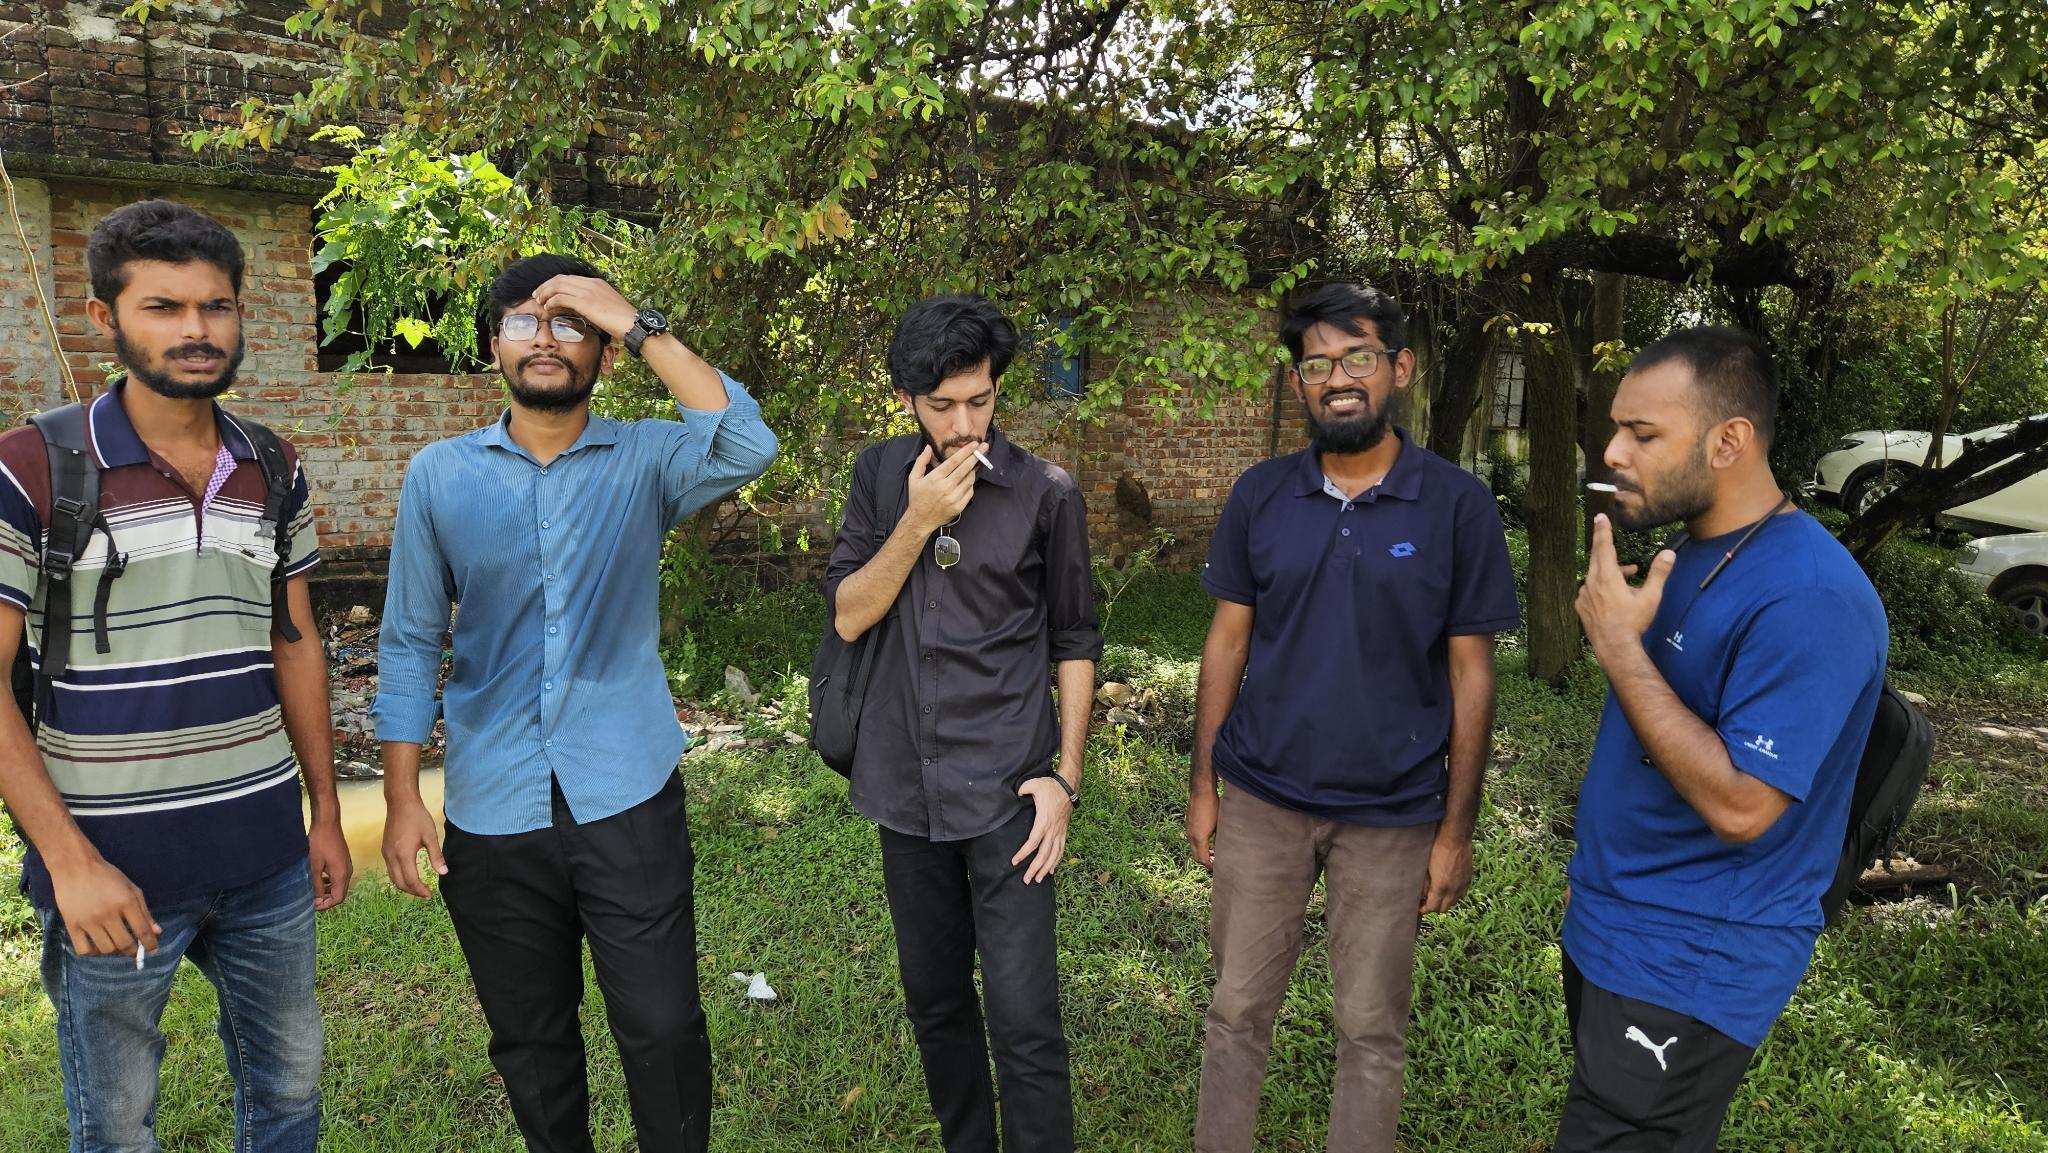cigarette: (1584, 479, 1620, 496), (972, 449, 996, 471), (134, 934, 146, 972)
nonSmoker: (370, 252, 782, 1153), (1187, 278, 1518, 1152)
smoker: (0, 197, 347, 1153), (1549, 328, 1935, 1153), (807, 292, 1104, 1153)
